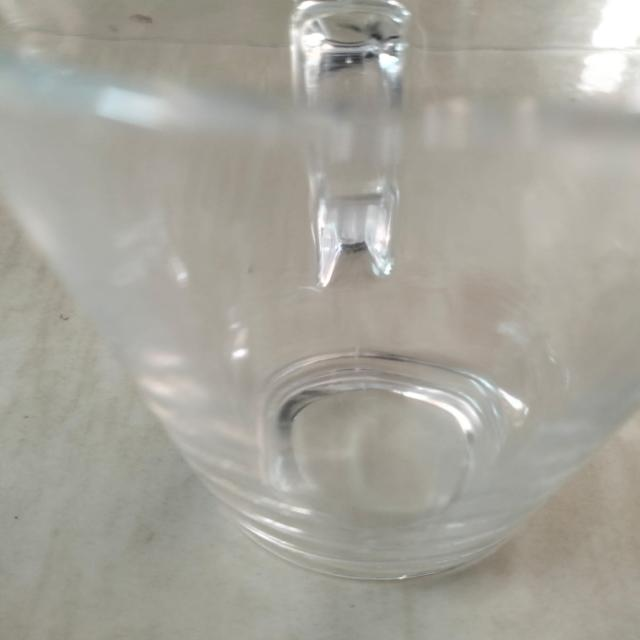glass-VX4N: (0, 0, 640, 570)
